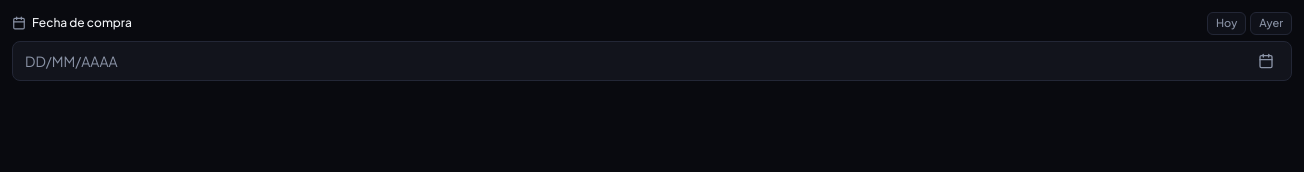
Scenario: QuickDatePicker (Spec 008 T2) › 5. Normaliza entrada rápida con slash directo "5/" a "05/"
In the field labelled "Fecha de compra": (652, 60) [12, 40, 1292, 80], type "5/"
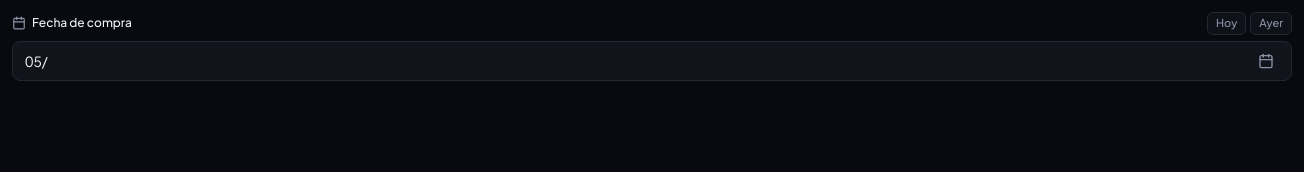
Check: the field labelled "Fecha de compra" holds "05/", box [12, 40, 1292, 80]
